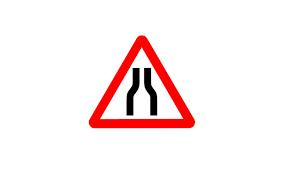narrow_road: (84, 34, 196, 127)
